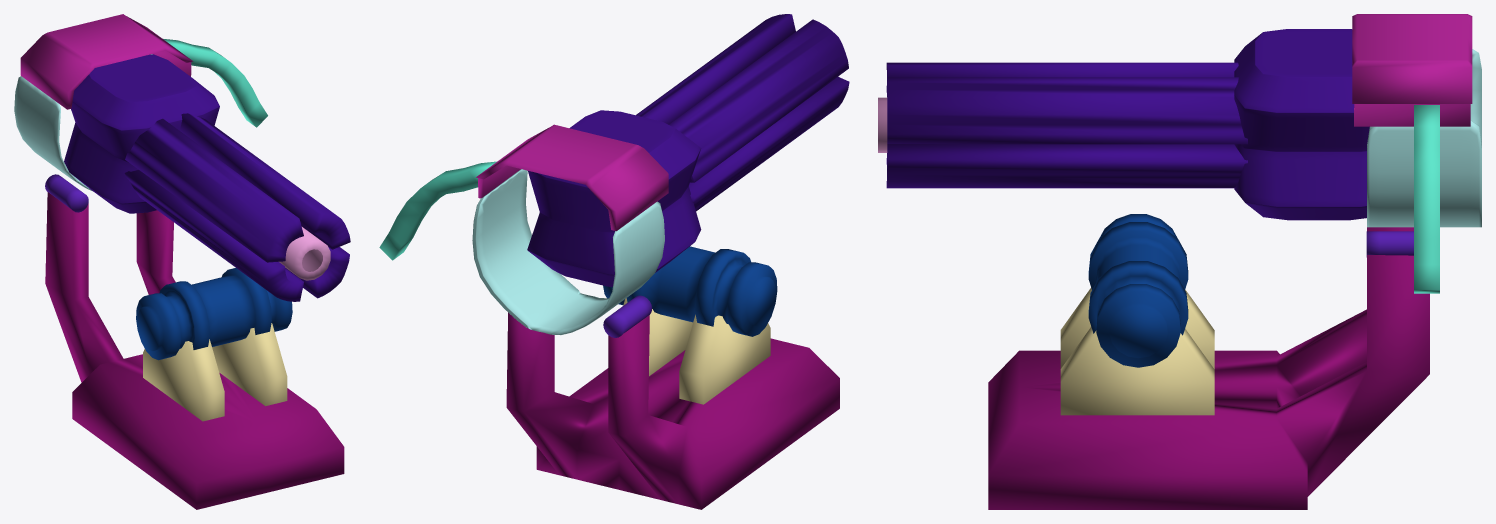
File: torreta.obj
The picture shows the model from 3 angles, left to right: view 1: azimuth 30°, elevation 25°; view 2: azimuth 150°, elevation 25°; view 3: azimuth 270°, elevation 25°; orthographic projection. The views are drawn at different scales.
Visible parts, largest first — view 1: Box009, Box006, Box001, Cylinder005, Box010, Box007, Box005, Box003, Cylinder002, Box008, Cylinder001, Box004 (+1 smaller); view 2: Box009, Cylinder002, Box006, Box001, Box007, Cylinder005, Box010, Box003, Box005, Box008, Cylinder004; view 3: Box009, Box005, Box006, Box004, Box007, Cylinder005, Box010, Cylinder002, Box001, Box008, Cylinder003.
Part boxes in pixels (x1=…): Box009: x1=45, y1=192, x2=344, y2=509; Box006: x1=64, y1=54, x2=219, y2=213; Box001: x1=125, y1=118, x2=303, y2=262; Cylinder005: x1=136, y1=268, x2=292, y2=360; Box010: x1=143, y1=323, x2=287, y2=421; Box007: x1=20, y1=14, x2=193, y2=109; Box005: x1=180, y1=113, x2=350, y2=249; Box003: x1=124, y1=170, x2=303, y2=301; Cylinder002: x1=14, y1=54, x2=152, y2=191; Box008: x1=163, y1=39, x2=267, y2=127; Cylinder001: x1=279, y1=227, x2=330, y2=280; Box004: x1=285, y1=247, x2=349, y2=298; Box009: x1=506, y1=312, x2=839, y2=509; Cylinder002: x1=472, y1=169, x2=664, y2=335; Box006: x1=527, y1=110, x2=701, y2=286; Box001: x1=669, y1=19, x2=848, y2=182; Box007: x1=476, y1=124, x2=668, y2=231; Cylinder005: x1=603, y1=246, x2=777, y2=336; Box010: x1=623, y1=298, x2=770, y2=404; Box003: x1=689, y1=76, x2=849, y2=211; Box005: x1=636, y1=14, x2=795, y2=124; Box008: x1=379, y1=161, x2=496, y2=260; Cylinder004: x1=603, y1=295, x2=652, y2=337; Box009: x1=988, y1=227, x2=1429, y2=509; Box005: x1=886, y1=77, x2=1247, y2=144; Box006: x1=1234, y1=29, x2=1369, y2=220; Box004: x1=886, y1=144, x2=1247, y2=188; Box007: x1=1352, y1=14, x2=1472, y2=126; Cylinder005: x1=1088, y1=214, x2=1188, y2=367; Box010: x1=1060, y1=287, x2=1214, y2=415; Cylinder002: x1=1367, y1=49, x2=1481, y2=227; Box001: x1=886, y1=62, x2=1238, y2=79; Box008: x1=1414, y1=105, x2=1439, y2=293; Cylinder003: x1=1366, y1=231, x2=1413, y2=257.
Bounding box in the file's own units: 71.22 × 95.24 × 122.
